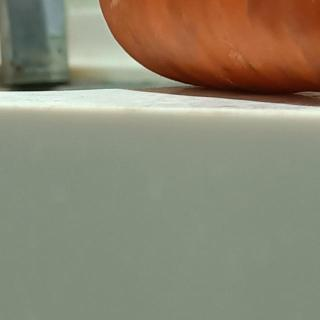carrot: (90, 0, 320, 95)
